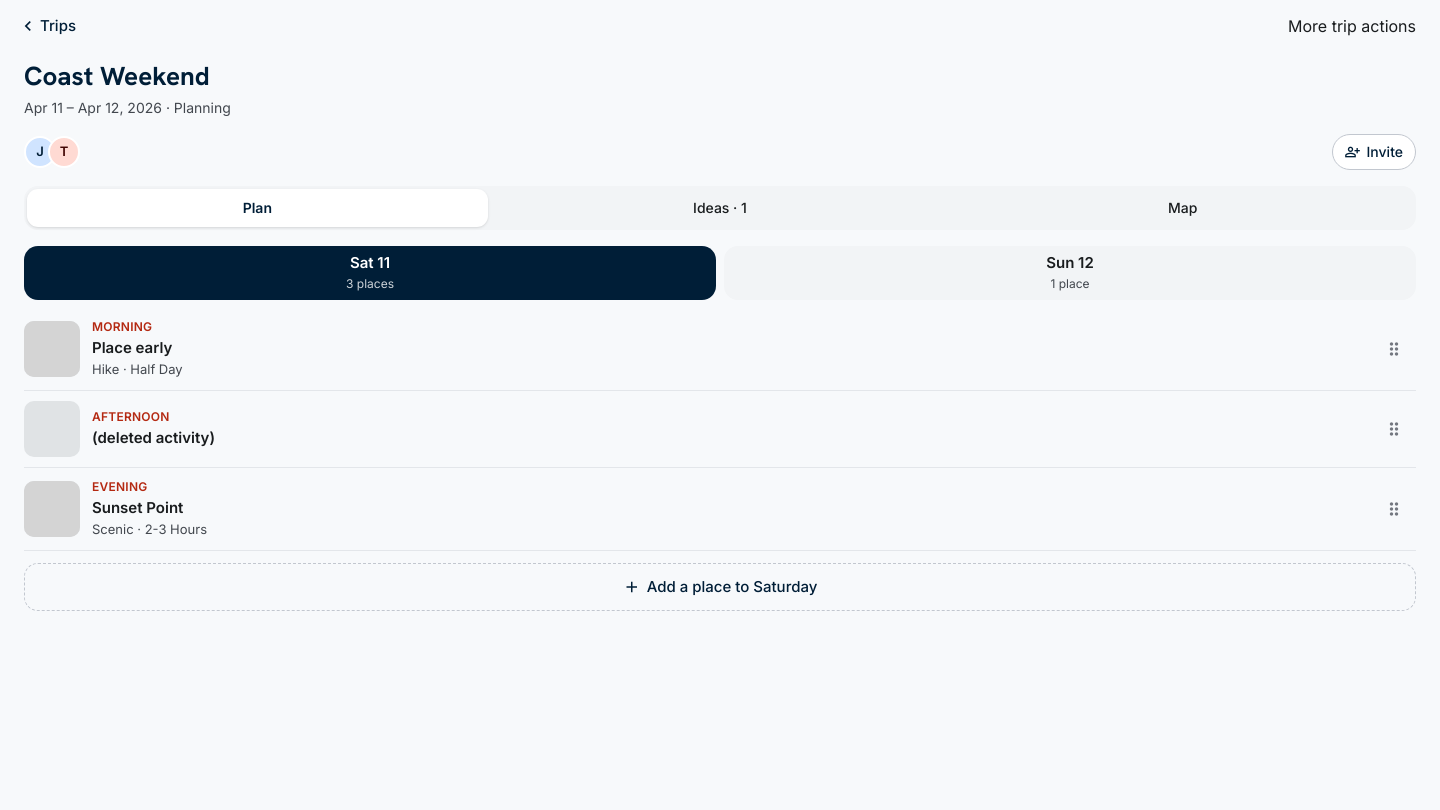
Test case: a trip’s page on a phone (#294) › a place’s handle › moves it earlier or later in the day
Click the button named "Move or change Sunset Point".
click(1394, 509)  # box [1372,487,1416,531]
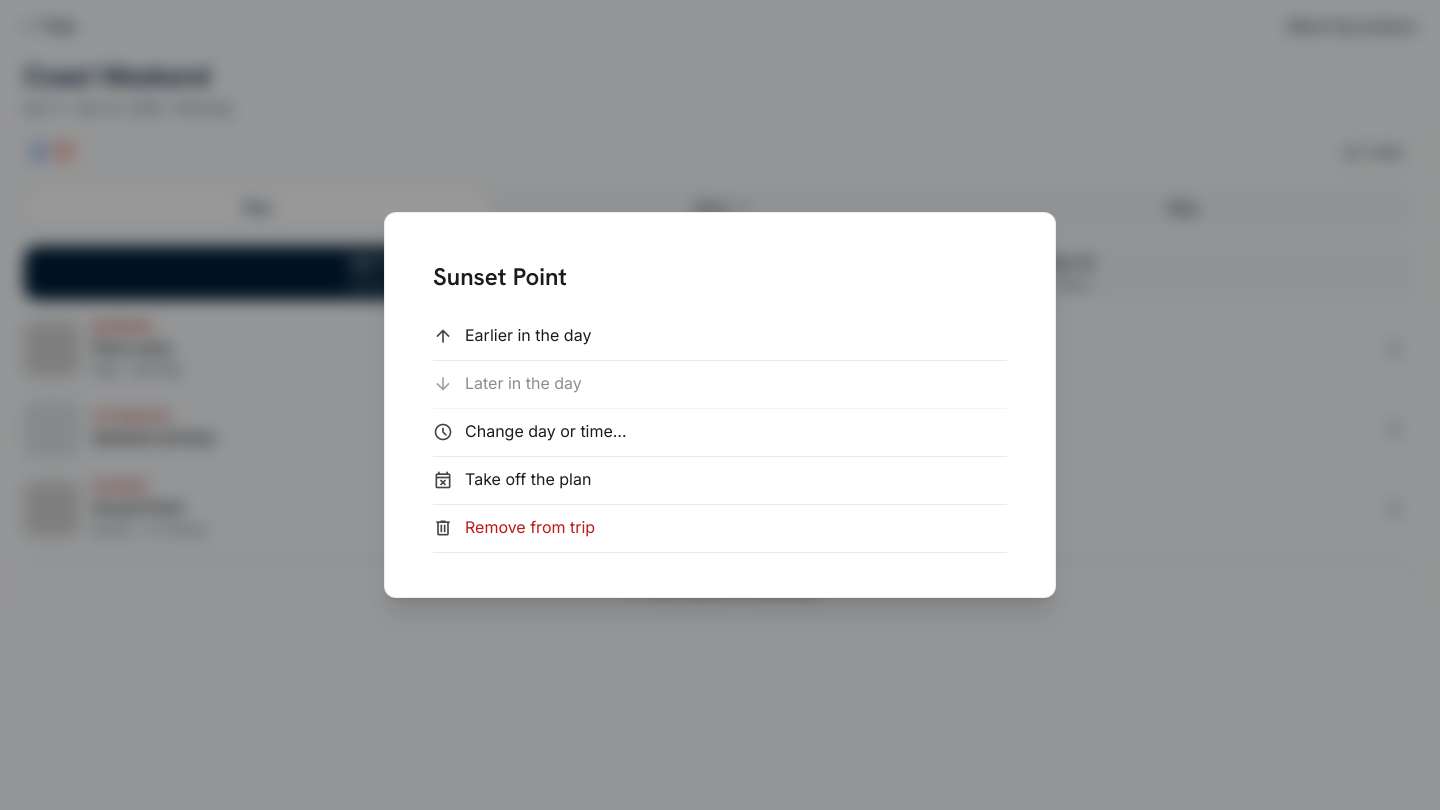
Expected: the button "Later in the day" is disabled, [433,361,1007,409]
Click the button "Earlier in the day".
click(528, 335)  # box [433,313,1007,361]
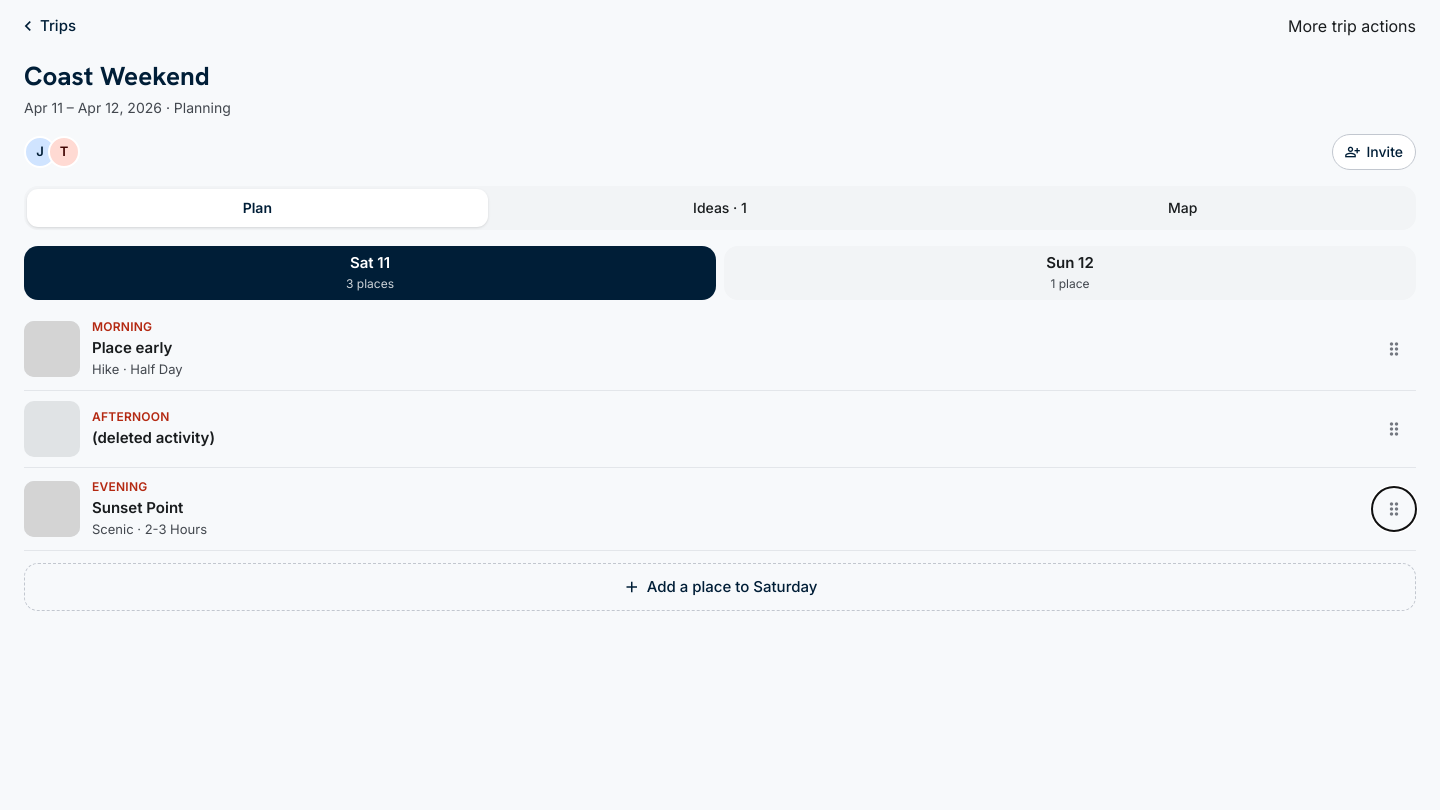
Expected: the dialog is gone
